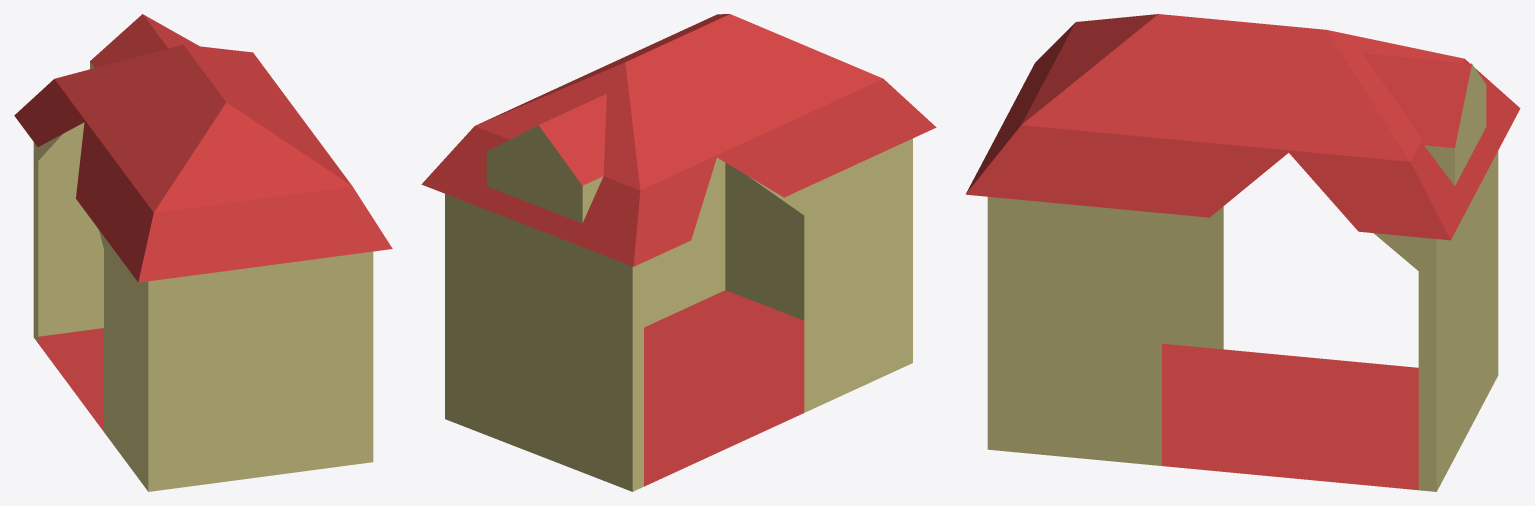
3 views of the same model, side by side, from view 1: azimuth 30°, elevation 25°; view 2: azimuth 150°, elevation 25°; view 3: azimuth 270°, elevation 25° (orthographic). The views are drawn at different scales.
Bounding box in the file's own units: 16.98 × 22.41 × 17.43.
